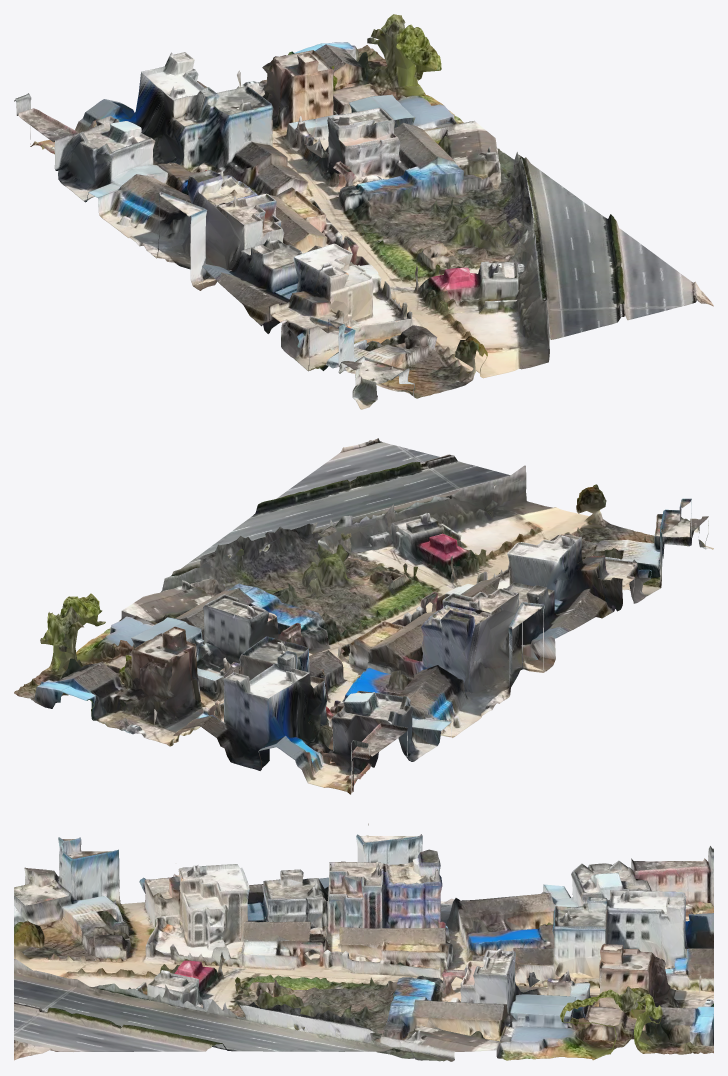
File: BlockYY_L18_18.glb
3 renders of one model, top to bottom at view 1: azimuth 30°, elevation 25°; view 2: azimuth 150°, elevation 25°; view 3: azimuth 270°, elevation 25°, orthographic.
Visible parts, largest first — view 1: rtc; view 2: rtc; view 3: rtc.
Part boxes in pixels (bbox=[...]): rtc: bbox=[14, 14, 713, 409]; rtc: bbox=[14, 438, 713, 794]; rtc: bbox=[14, 823, 713, 1061].
Bounding box in the file's own units: 85.93 × 19.93 × 147.
Materials: 3 (3 with a texture image).
